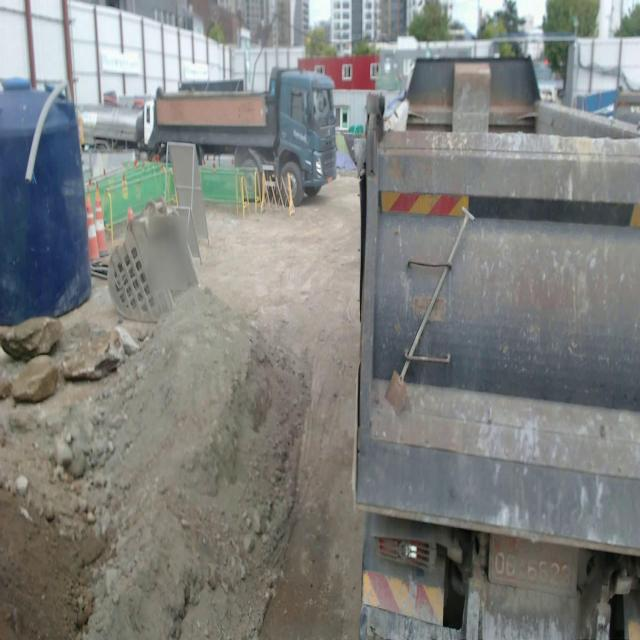stone: (59, 322, 125, 380), (0, 316, 62, 360), (11, 355, 61, 403)
white-sand: (0, 172, 361, 639)
